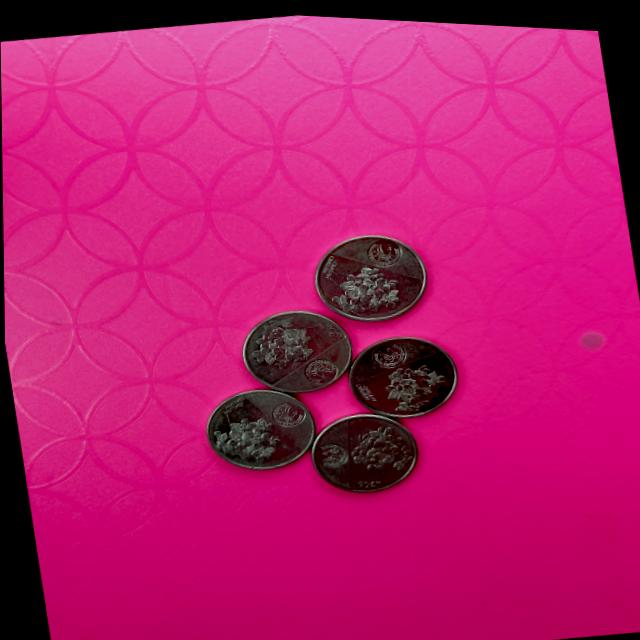1_New_Back: (210, 401, 290, 463), (332, 254, 411, 316), (383, 349, 458, 410), (344, 418, 411, 482), (255, 310, 324, 366)
